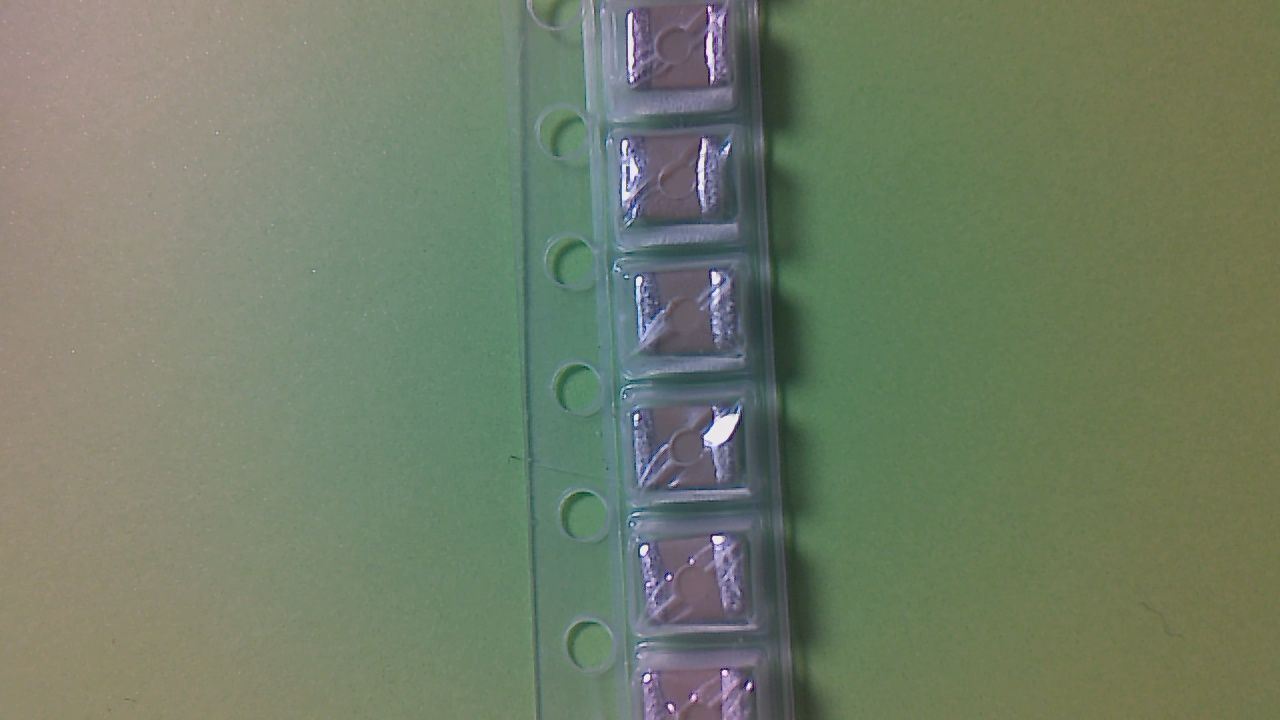Condensator: (646, 542, 760, 628), (623, 139, 732, 227), (637, 406, 748, 490), (630, 10, 733, 95), (642, 275, 741, 357)
